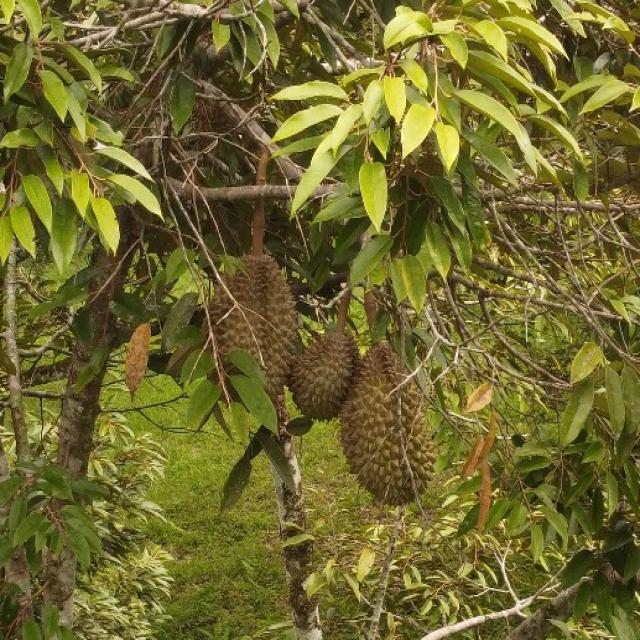mature: (338, 341, 436, 511), (202, 252, 298, 406), (289, 325, 359, 423)
